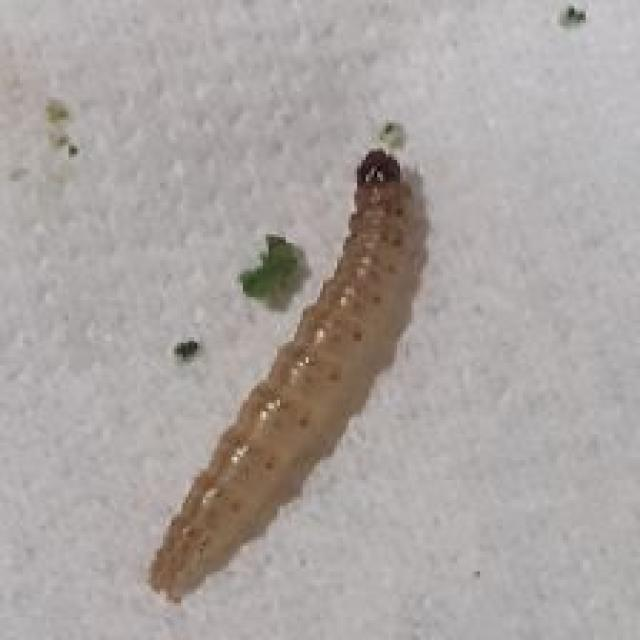white mucus: (138, 157, 487, 599)
